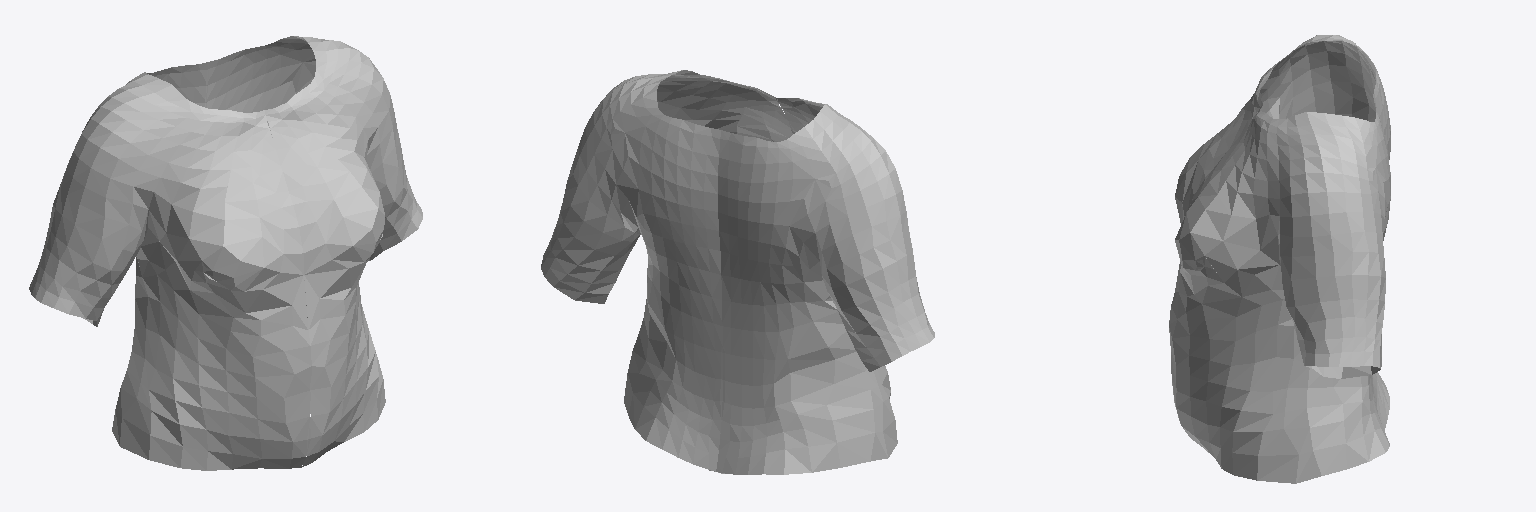
File: shirtmid.obj
The picture shows the model from 3 angles: view 1: azimuth 30°, elevation 25°; view 2: azimuth 150°, elevation 25°; view 3: azimuth 270°, elevation 25°; orthographic projection.
Visible parts, largest first — view 1: shirtmid_Realistic_White_Female_Low_Poly.011; view 2: shirtmid_Realistic_White_Female_Low_Poly.011; view 3: shirtmid_Realistic_White_Female_Low_Poly.011.
Part boxes in pixels (x1,y1,x2,y2): shirtmid_Realistic_White_Female_Low_Poly.011: (29,36,422,470); shirtmid_Realistic_White_Female_Low_Poly.011: (541,70,934,474); shirtmid_Realistic_White_Female_Low_Poly.011: (1169,35,1390,483).
Bounding box in the file's own units: 0.5799 × 0.5183 × 0.2915.